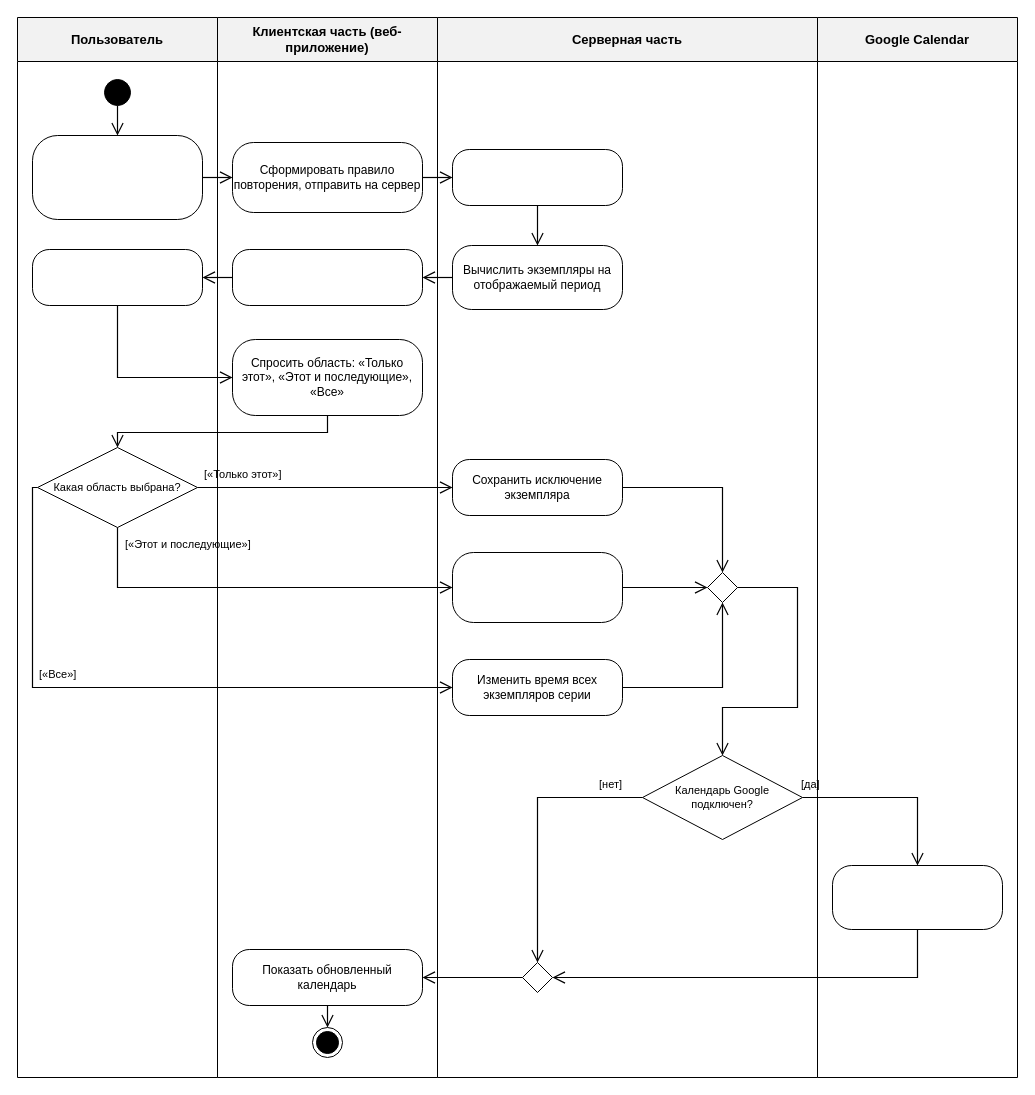
Some shapes in this 1035 by 1095 pixel diagram are drawn without their labels. The centre of each missing label's shape, as x and y in pixels:
"Завершить серию накануне экземпляра, создать новую серию" goes at point (537, 587).
"Задать повторение: каждый месяц, 2-й вторник, 10:00–11:00, 10 повторов" goes at point (117, 177).
"Обновить повторяющееся событие и исключение" goes at point (917, 897).
"Перетащить один экземпляр на среду" goes at point (117, 277).
"Показать экземпляры в календаре" goes at point (327, 277).
"Проверить правило и сохранить серию" goes at point (537, 177).
